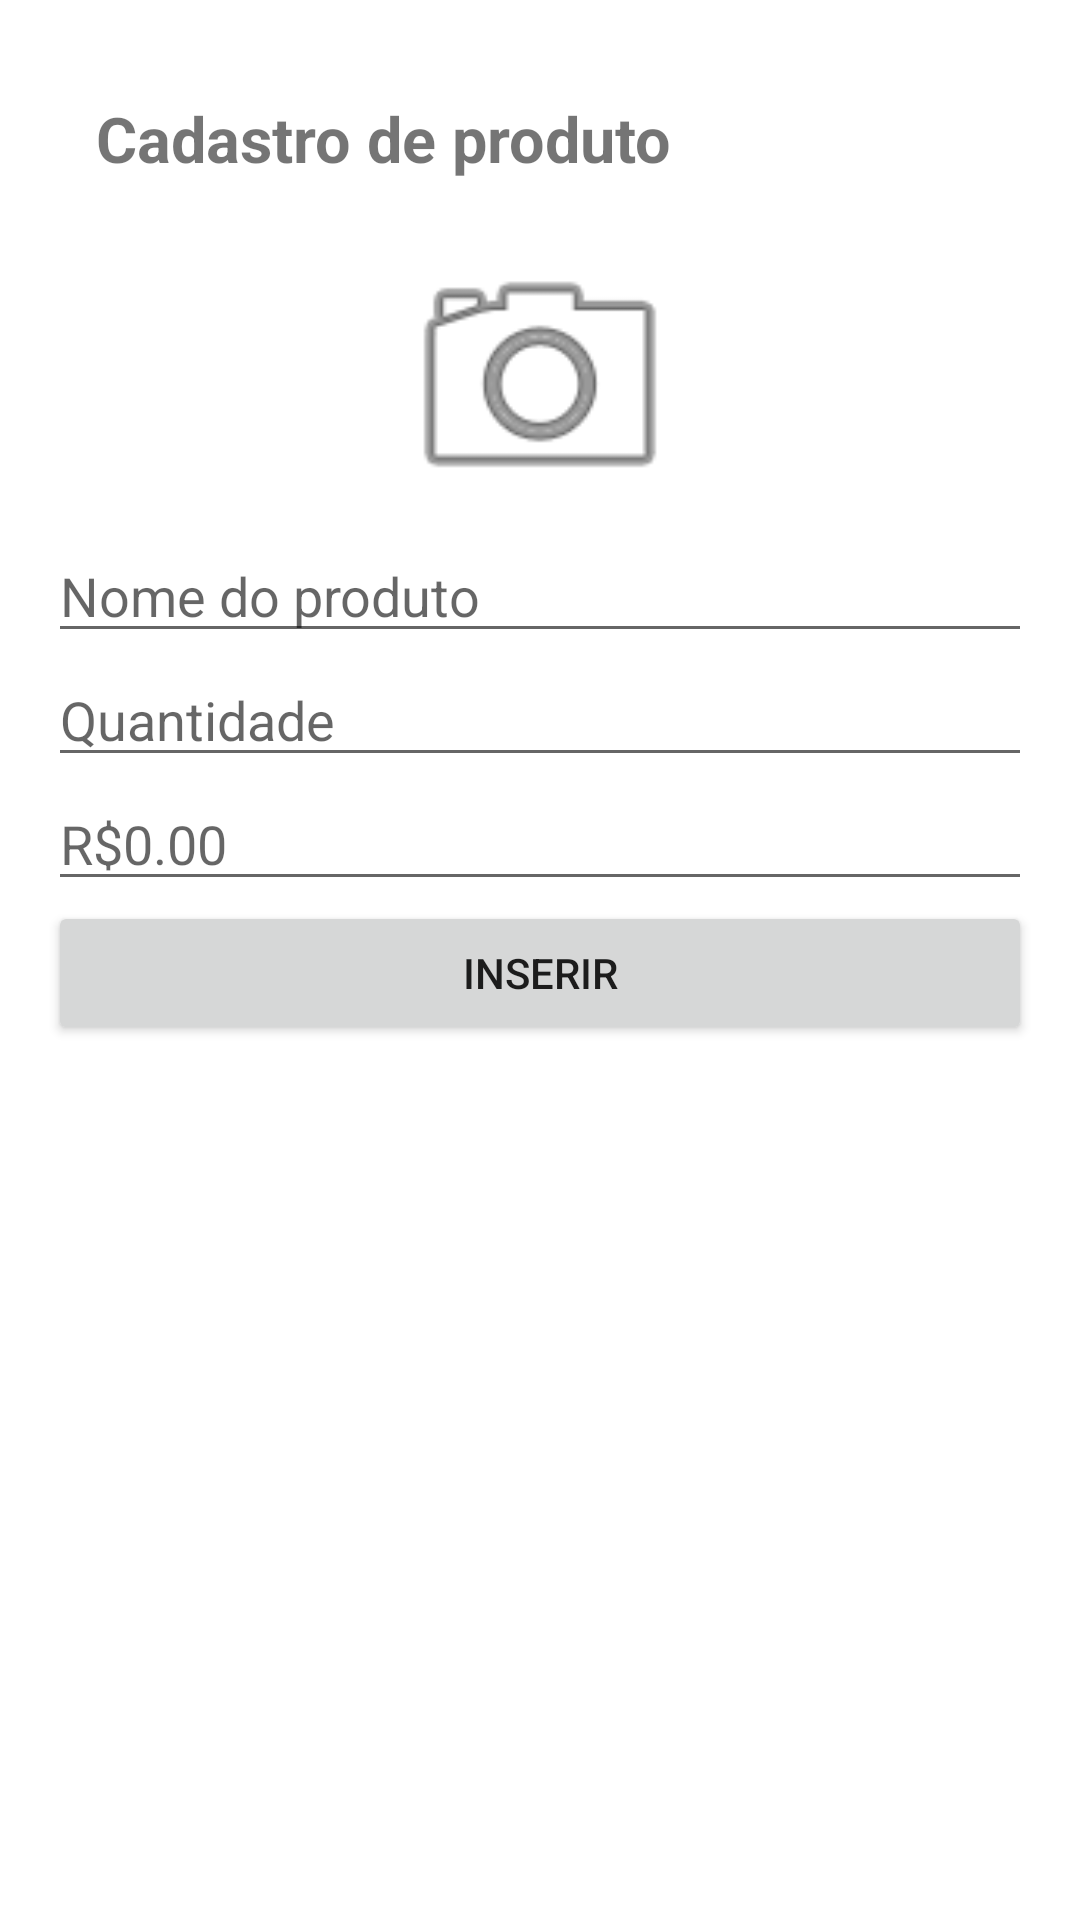

Icon click points for this 1080×1920 phone screenshot, format (x=x, y=y):
camera: (x=540, y=374)
